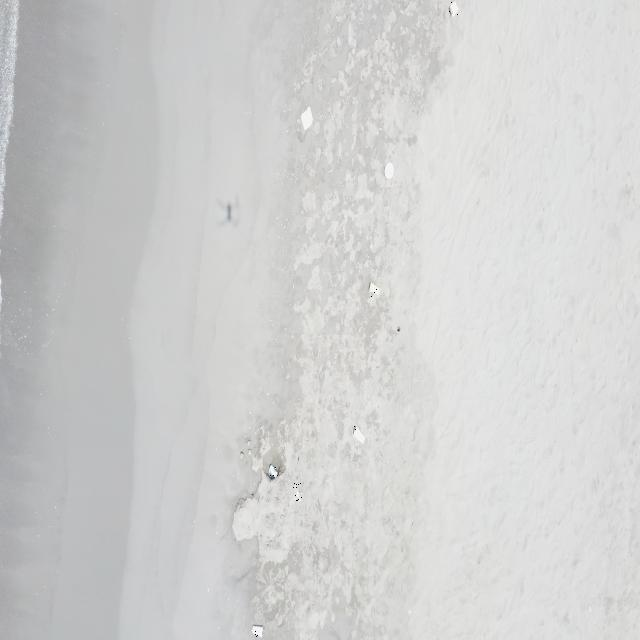take-away-containers: (300, 105, 314, 131), (384, 162, 394, 182), (449, 0, 458, 18)
takeaway-cup: (353, 426, 365, 445), (293, 481, 302, 502), (252, 623, 264, 638), (368, 282, 380, 297), (268, 463, 278, 479)
